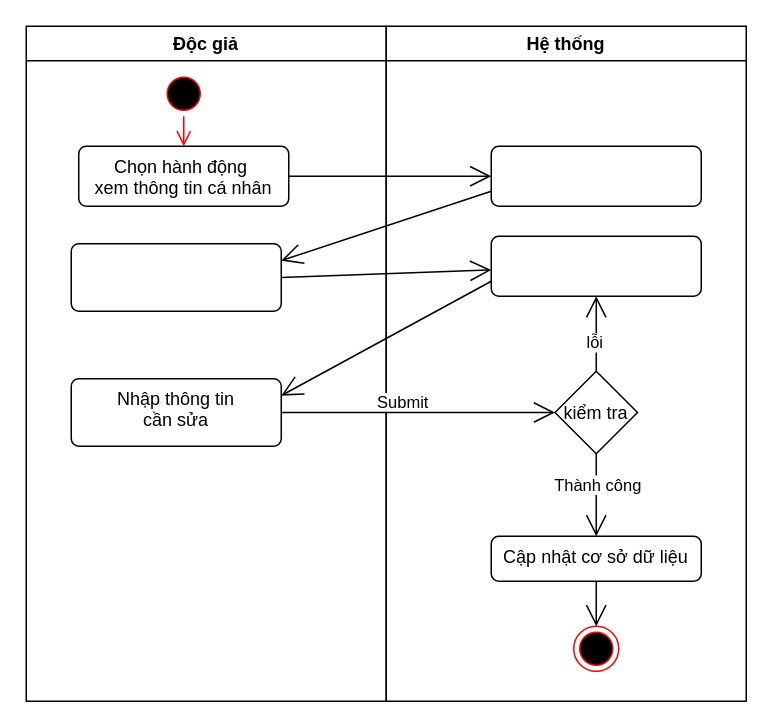
This 773x728 diagram has some shape labels left out. The shapes that lost their labels are listed below. From the top down, each one's centre as x and y in pixels, then its label:
[595,175]: Hiển thị trang quản thông tin cá nhân
[175,276]: Chọn hành động chỉnh sửa
[595,265]: Hiển thị form theo yêu cầu
